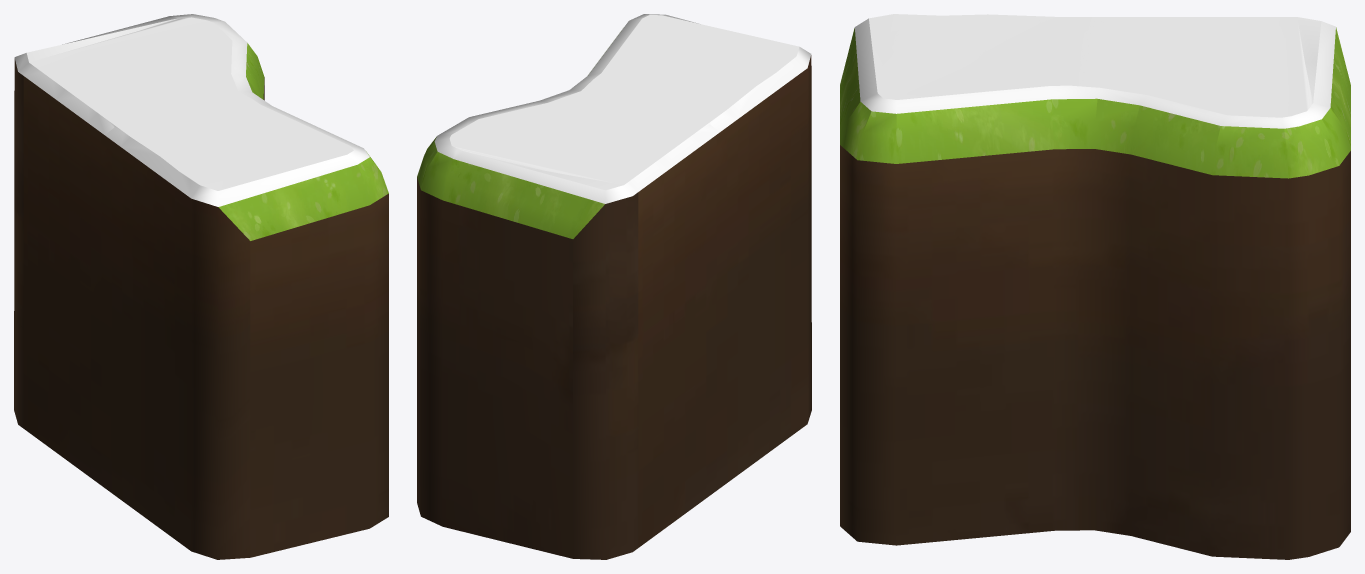
Rendered from Plat5.2.fbx.
3 renders of one model, left to right at view 1: azimuth 30°, elevation 25°; view 2: azimuth 150°, elevation 25°; view 3: azimuth 270°, elevation 25°, orthographic. The views are drawn at different scales.
Parts seen in each view (by area): view 1: Quinta_plat, Ground, Wall; view 2: Quinta_plat, Ground, Wall; view 3: Quinta_plat, Ground, Wall.
Part boxes in pixels (box(x1,y1,x2,y2)): Quinta_plat: box(14, 58, 388, 559); Ground: box(14, 14, 369, 206); Wall: box(218, 43, 388, 240); Quinta_plat: box(417, 55, 811, 559); Ground: box(434, 14, 811, 203); Wall: box(417, 136, 604, 238); Quinta_plat: box(840, 145, 1350, 559); Ground: box(854, 14, 1335, 128); Wall: box(840, 27, 1350, 178).
Size of the model in its own units: 4790 by 7753 by 8349.
